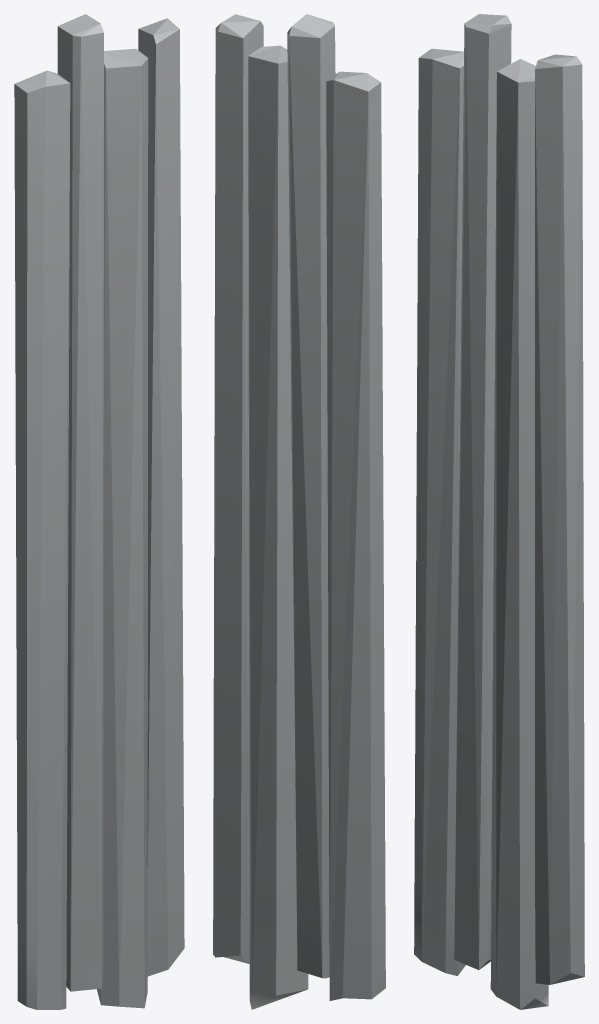
3 views of the same model, side by side, from view 1: azimuth 30°, elevation 25°; view 2: azimuth 150°, elevation 25°; view 3: azimuth 330°, elevation 25° (orthographic).
Visible parts, largest first — view 1: rock_20m_3; view 2: rock_20m_3; view 3: rock_20m_3.
Boxes of the visible parts, box(x1,y1,x2,y2) form: rock_20m_3: box(14, 14, 184, 1009); rock_20m_3: box(213, 14, 385, 1009); rock_20m_3: box(414, 14, 584, 1009).
Bounding box in the file's own units: 3.56 × 21.25 × 1.
Materials: 1 (1 with a texture image).
